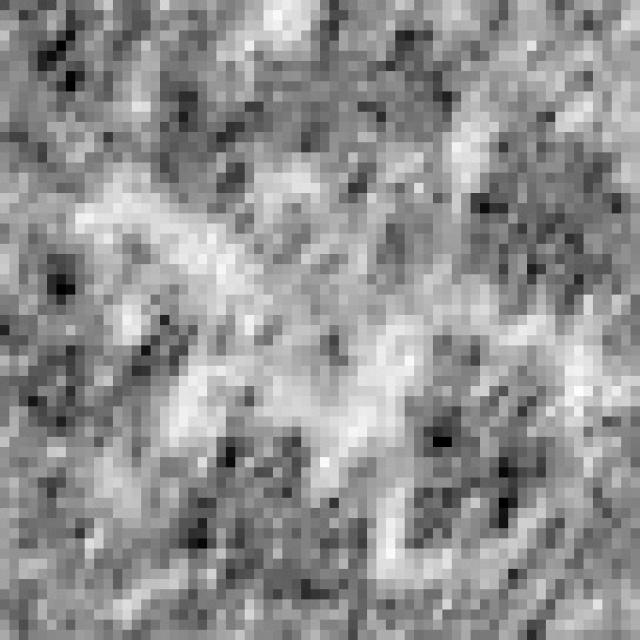inner: (214, 175, 455, 400)
lobe: (0, 245, 201, 444), (175, 424, 378, 604), (459, 115, 633, 314), (400, 338, 564, 549), (264, 17, 471, 163), (150, 31, 264, 211)
outer: (0, 1, 640, 640)
